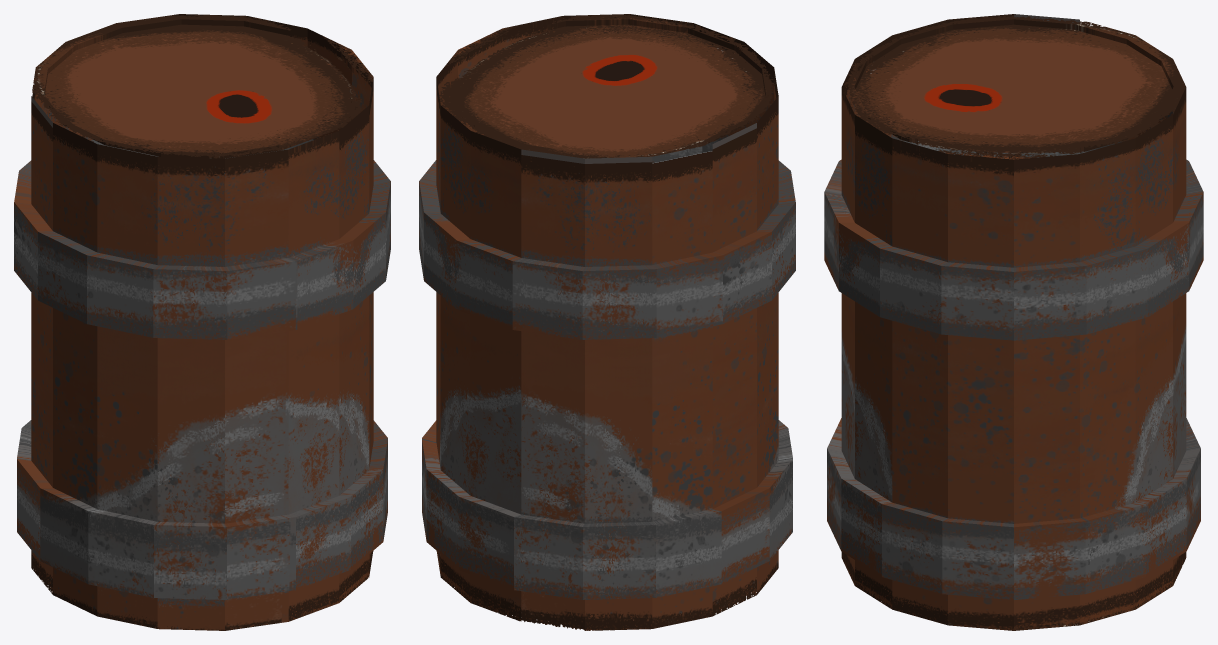
File: barril.obj
3 views of the same model, side by side, from view 1: azimuth 30°, elevation 25°; view 2: azimuth 150°, elevation 25°; view 3: azimuth 270°, elevation 25° (orthographic).
Parts seen in each view (by area): view 1: Cylinder; view 2: Cylinder; view 3: Cylinder.
Part boxes in pixels (x1,y1,x2,y2): Cylinder: (14,14,390,630); Cylinder: (419,14,795,630); Cylinder: (824,14,1203,630).
Bounding box in the file's own units: 2.2 × 3.02 × 2.2.
